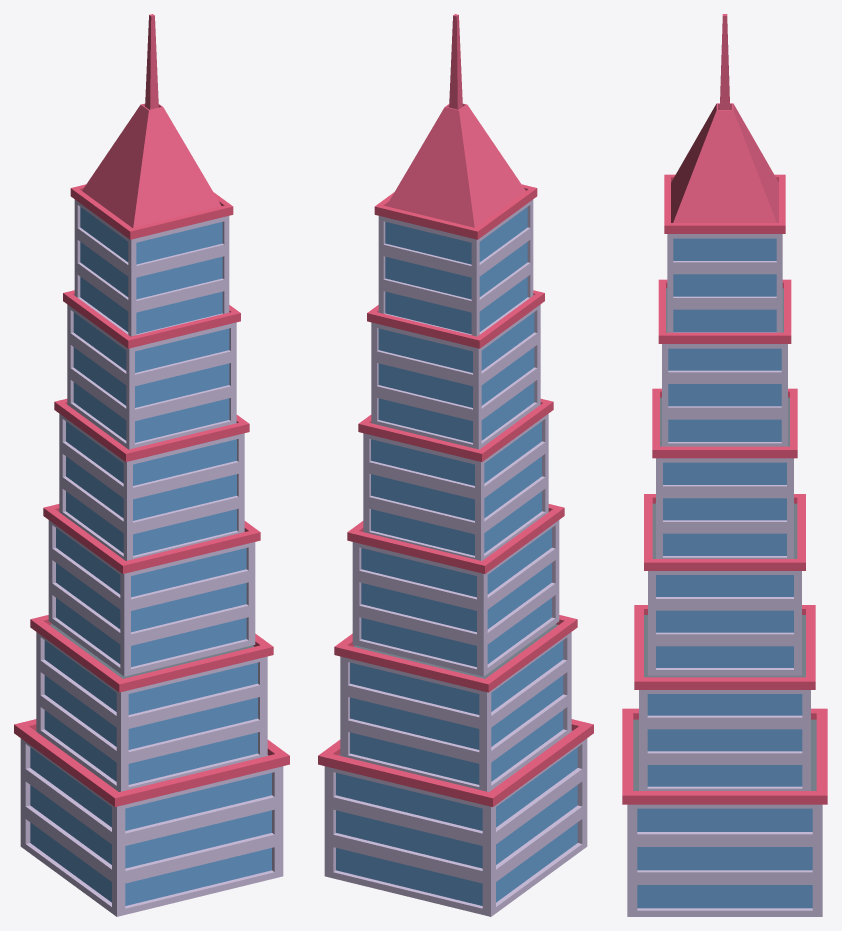
3 views of the same model, side by side, from view 1: azimuth 30°, elevation 25°; view 2: azimuth 150°, elevation 25°; view 3: azimuth 270°, elevation 25° (orthographic).
Parts seen in each view (by area): view 1: b4; view 2: b4; view 3: b4.
Part boxes in pixels (box(x1,y1,x2,y2)): b4: box(14, 14, 289, 916); b4: box(318, 14, 593, 916); b4: box(622, 14, 827, 916).
Size of the model in its own units: 713 by 3298 by 713.
1 material, 1 textured.
